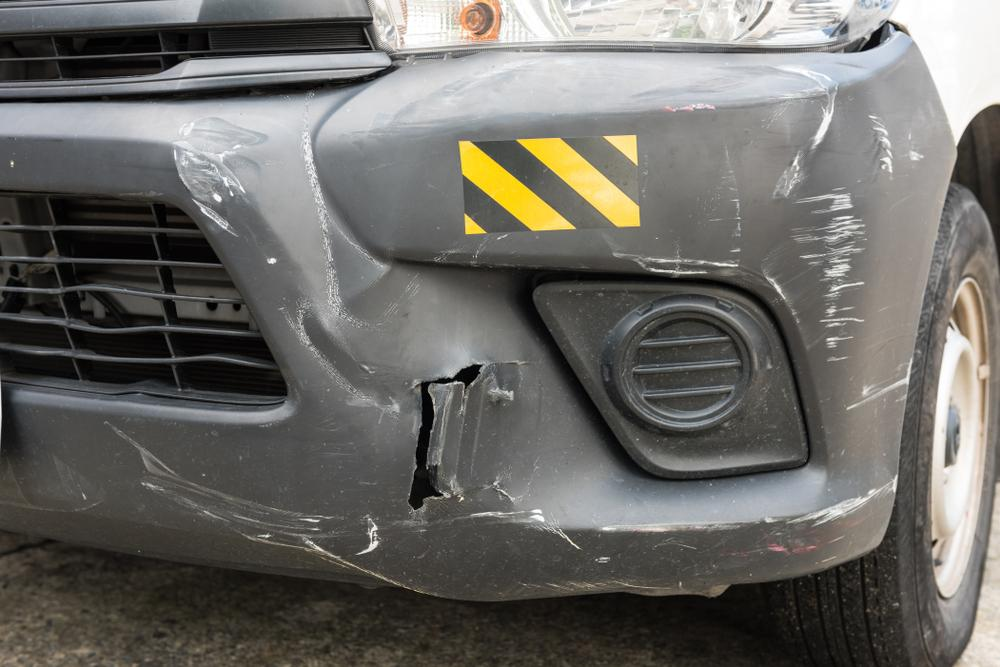crack: (407, 361, 490, 512)
scratch: (597, 62, 925, 411), (112, 421, 583, 594), (166, 114, 273, 237), (759, 475, 897, 558)
